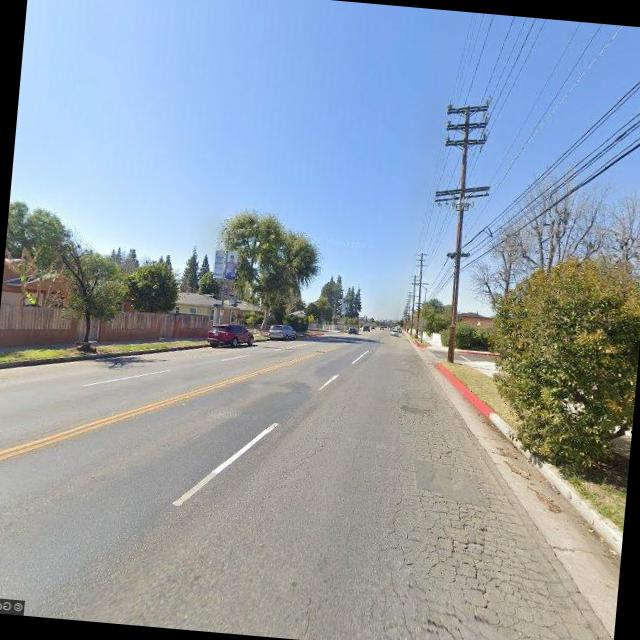crack: (370, 386, 602, 640)
pothole: (274, 392, 352, 504)
